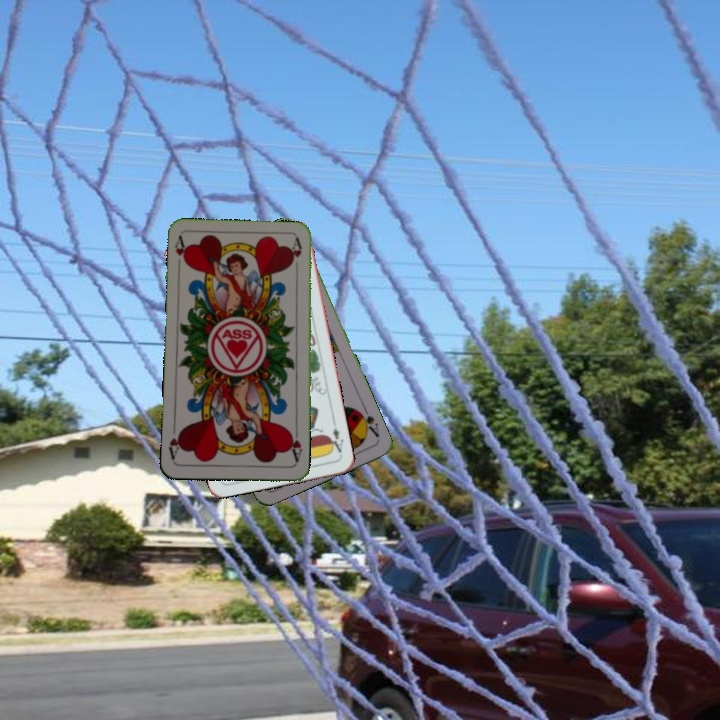EA: (325, 418, 346, 458)
HA: (285, 425, 305, 464), (171, 233, 190, 273)
SA: (353, 403, 382, 440)
